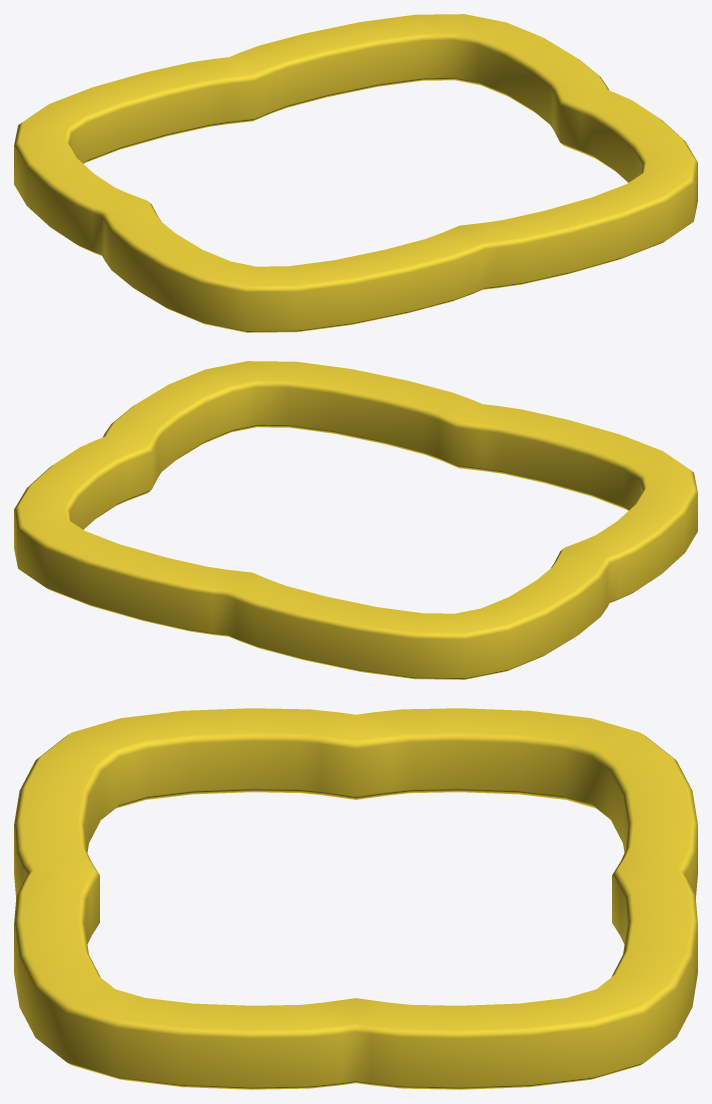
File: Bell_Pepper_Yellow_Pice.fbx
3 renders of one model, top to bottom at view 1: azimuth 30°, elevation 25°; view 2: azimuth 150°, elevation 25°; view 3: azimuth 270°, elevation 25°, orthographic. The views are drawn at different scales.
Parts seen in each view (by area): view 1: Bell_Pepper_Yellow_Pice; view 2: Bell_Pepper_Yellow_Pice; view 3: Bell_Pepper_Yellow_Pice.
Part boxes in pixels (x1,y1,x2,y2): Bell_Pepper_Yellow_Pice: [14, 14, 697, 332]; Bell_Pepper_Yellow_Pice: [14, 361, 697, 679]; Bell_Pepper_Yellow_Pice: [14, 708, 697, 1089].
Bounding box in the file's own units: 10.88 × 0.9259 × 9.6.
